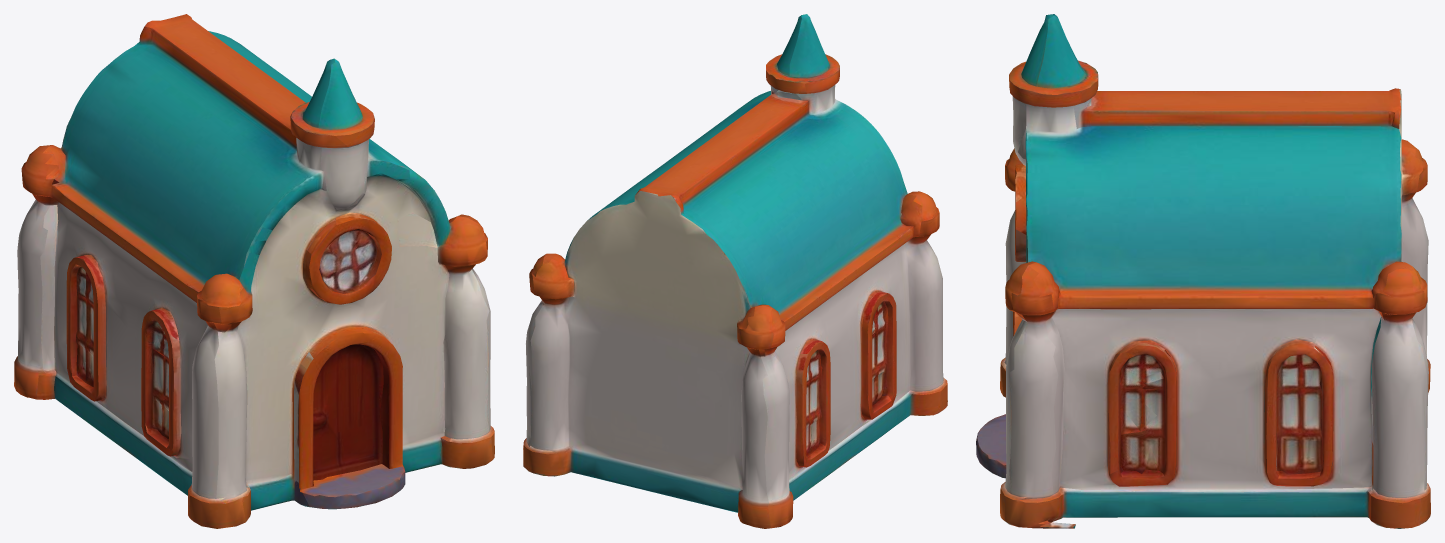
File: church.glb
3 views of the same model, side by side, from view 1: azimuth 30°, elevation 25°; view 2: azimuth 150°, elevation 25°; view 3: azimuth 270°, elevation 25° (orthographic). The views are drawn at different scales.
Parts seen in each view (by area): view 1: church; view 2: church; view 3: church.
Boxes of the visible parts, x1=… form: church: x1=14, y1=14, x2=494, y2=528; church: x1=523, y1=14, x2=947, y2=528; church: x1=976, y1=14, x2=1430, y2=528.
Size of the model in its own units: 0.7458 by 1 by 0.9392.
1 material, 1 textured.
